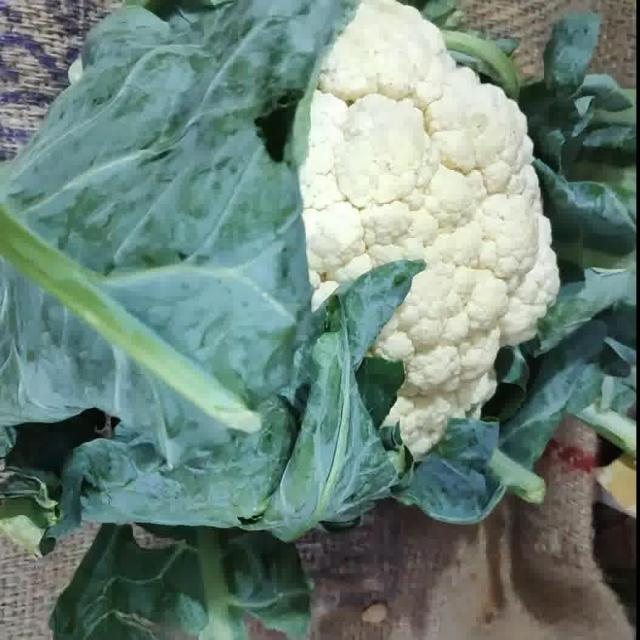Cauliflower: (301, 0, 558, 458)
